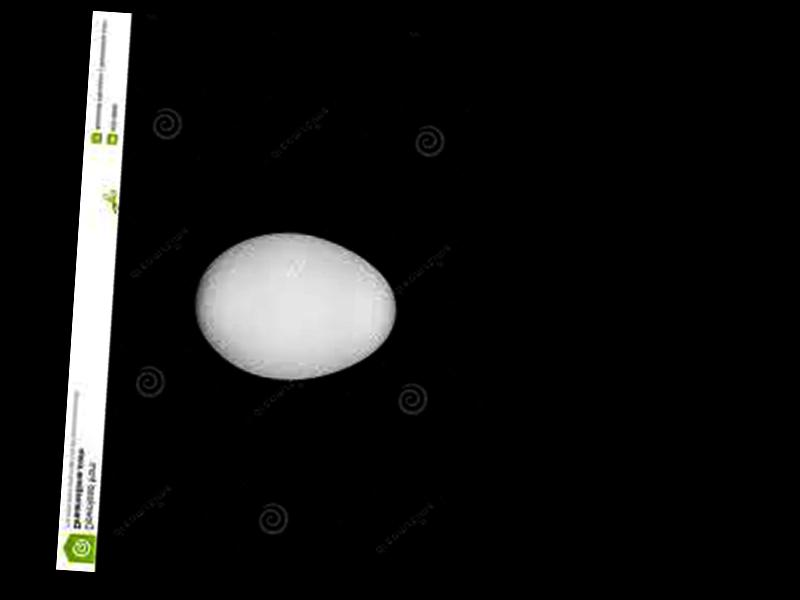Eggs: (190, 223, 400, 385)
